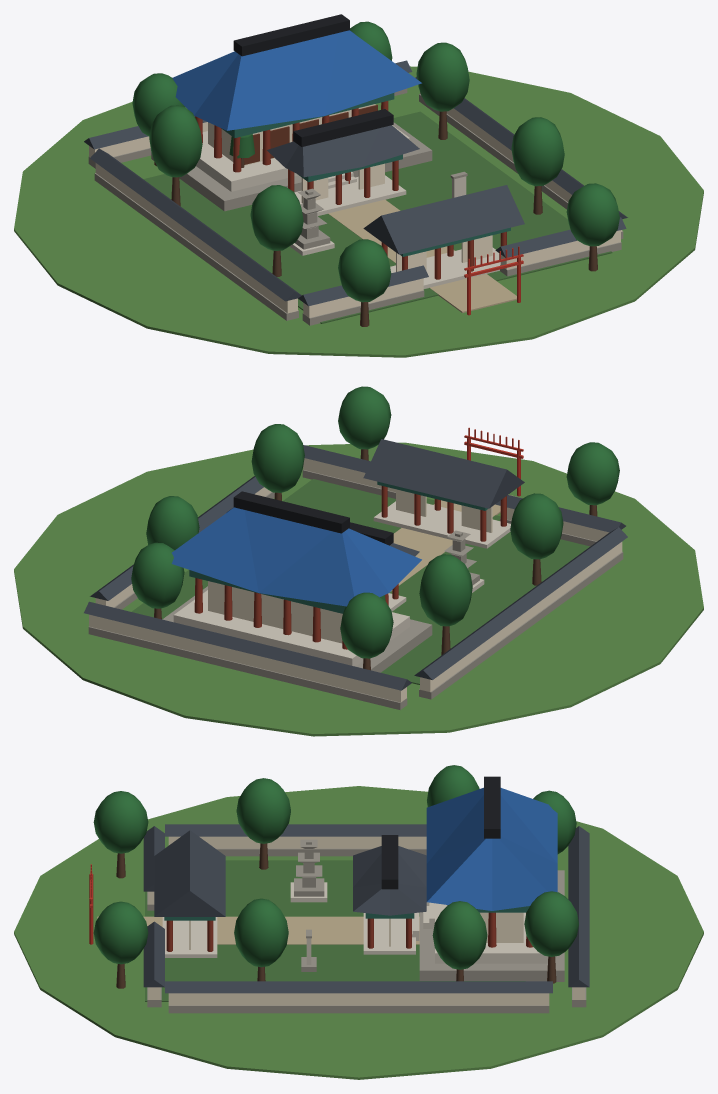
Rendered from nakseongdae.glb.
The picture shows the model from 3 angles, top to bottom: view 1: azimuth 30°, elevation 25°; view 2: azimuth 150°, elevation 25°; view 3: azimuth 270°, elevation 25°; orthographic projection.
Size of the model in its own units: 58 by 12.17 by 58.
